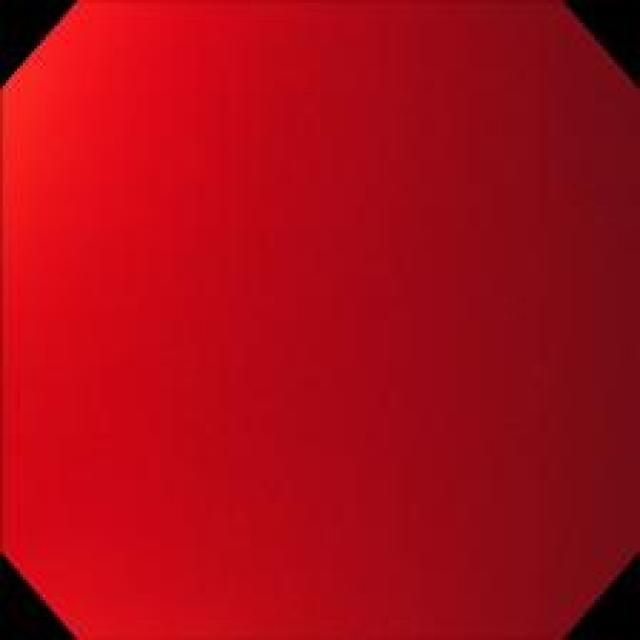color misalignment: (4, 9, 635, 621)
